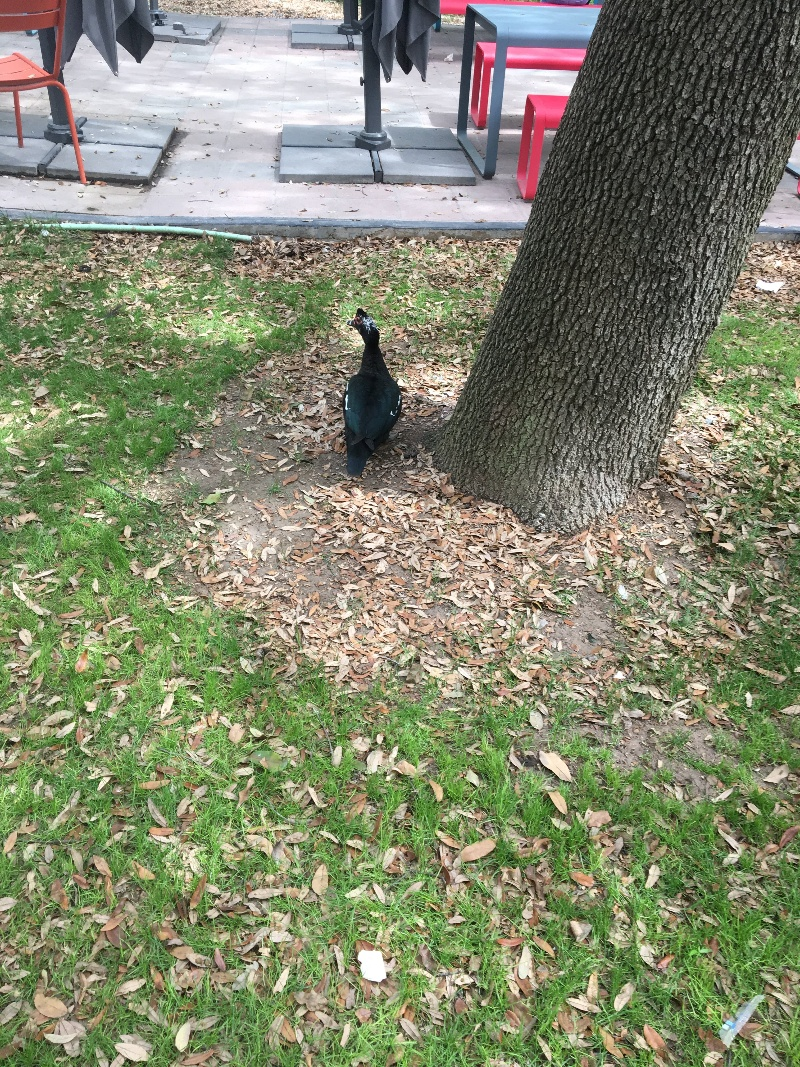pato: (336, 310, 406, 479)
